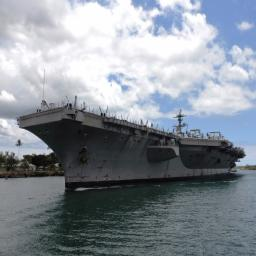Portanaves: (15, 96, 251, 196)
